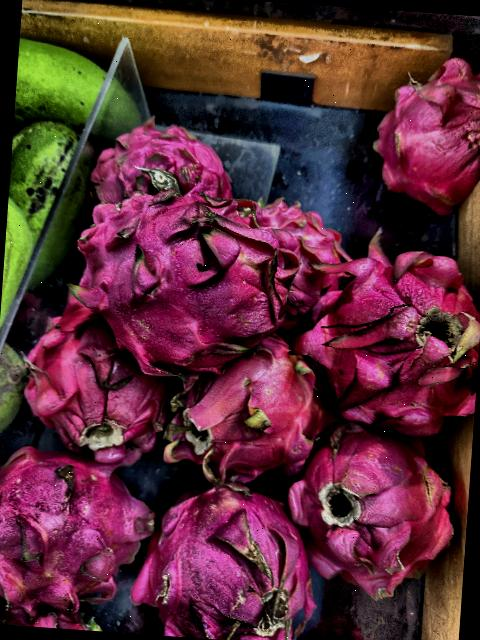buah-naga-matang: (74, 184, 306, 366), (299, 226, 480, 434), (278, 422, 472, 606), (0, 435, 159, 630), (139, 480, 325, 640), (13, 285, 171, 457), (165, 339, 332, 487), (369, 44, 480, 204), (84, 108, 241, 204), (254, 193, 352, 311)
